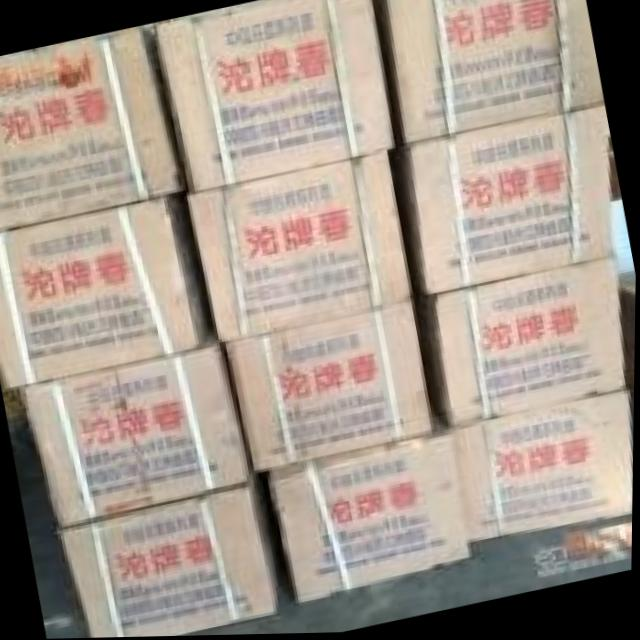box: (156, 0, 398, 196), (18, 334, 254, 530), (189, 152, 411, 348), (395, 103, 614, 299), (0, 197, 214, 392), (270, 412, 471, 601), (0, 30, 185, 229), (63, 475, 282, 638), (224, 305, 435, 473), (413, 262, 625, 428), (372, 0, 602, 149), (453, 393, 634, 545)
